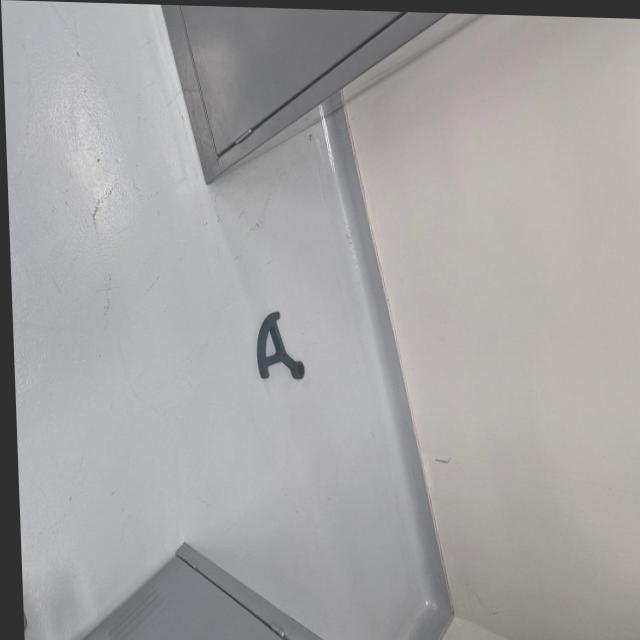haptic: (254, 310, 305, 381)
